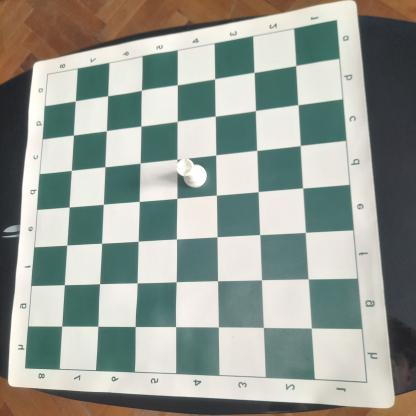white-rook: (175, 157, 208, 190)
